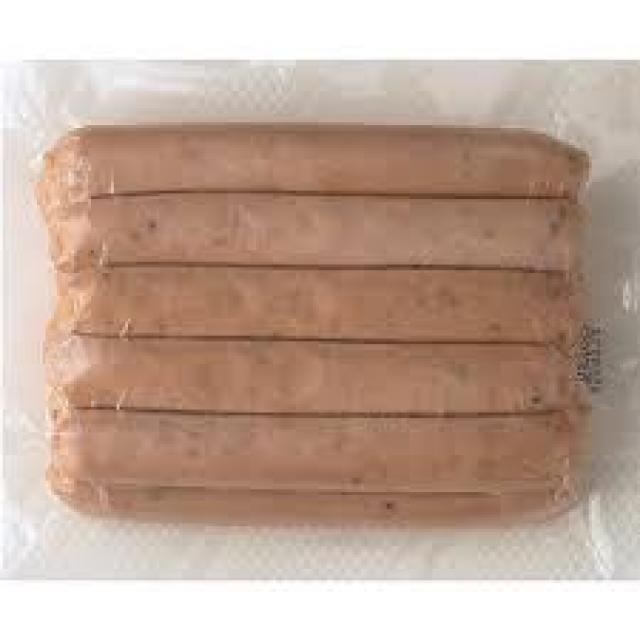sausage: (26, 101, 623, 551)
